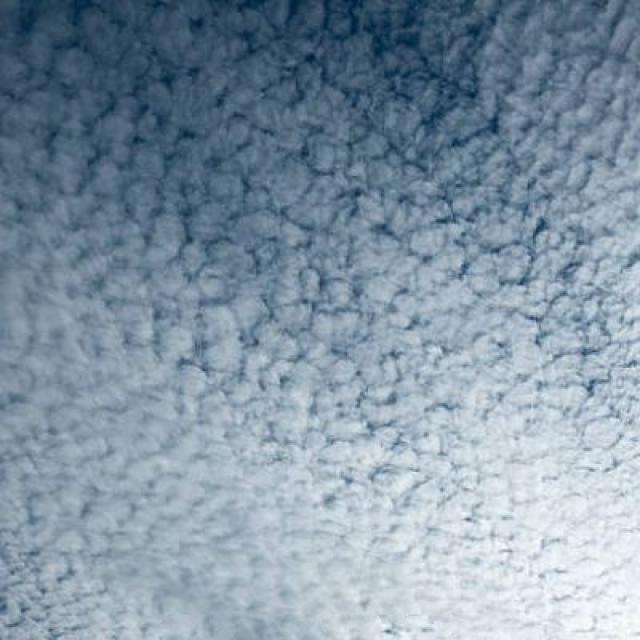Cc: (10, 9, 640, 551)
